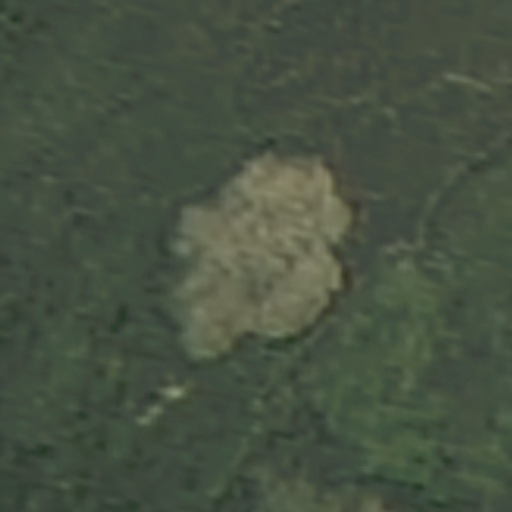landslide: (175, 147, 353, 350)
